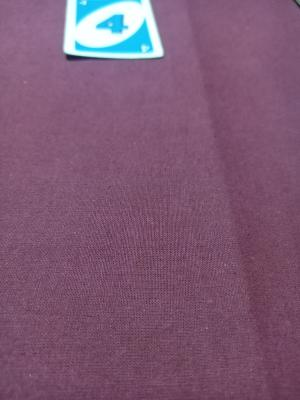blue: (71, 2, 157, 56)
